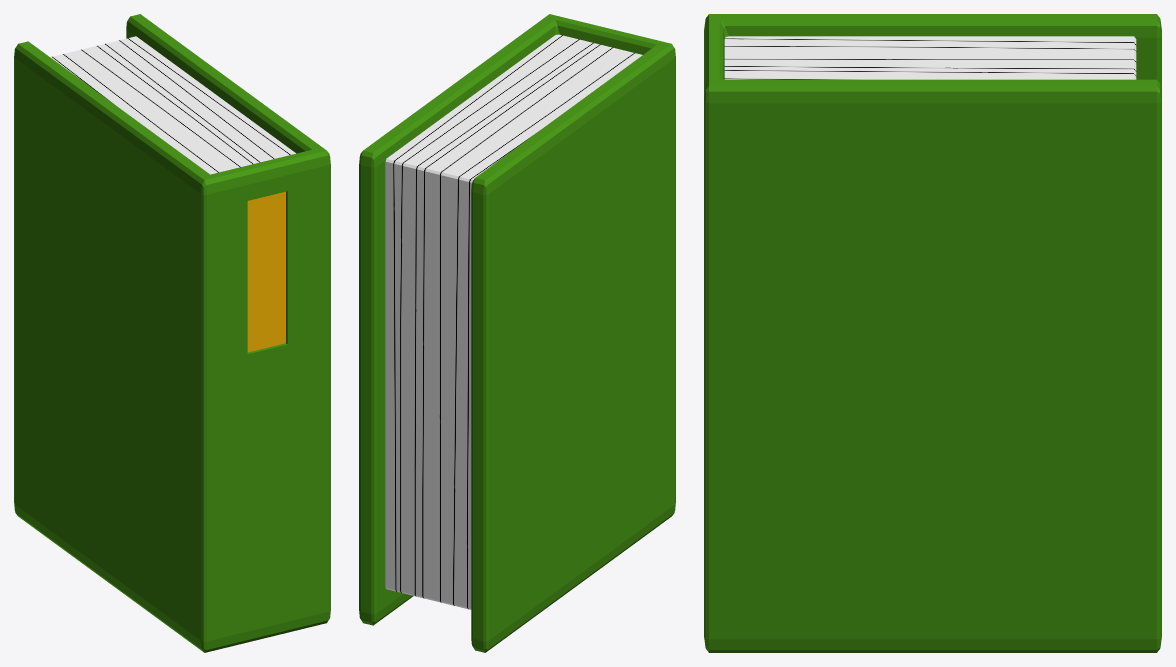
File: Book_1.fbx
The picture shows the model from 3 angles, left to right: view 1: azimuth 30°, elevation 25°; view 2: azimuth 150°, elevation 25°; view 3: azimuth 270°, elevation 25°; orthographic projection. The views are drawn at different scales.
Visible parts, largest first — view 1: Cube.001; view 2: Cube.001; view 3: Cube.001.
Part boxes in pixels (x1=…): Cube.001: x1=14, y1=14, x2=330, y2=652; Cube.001: x1=359, y1=14, x2=675, y2=652; Cube.001: x1=704, y1=14, x2=1161, y2=652.
Bounding box in the file's own units: 187 × 651 × 476.
